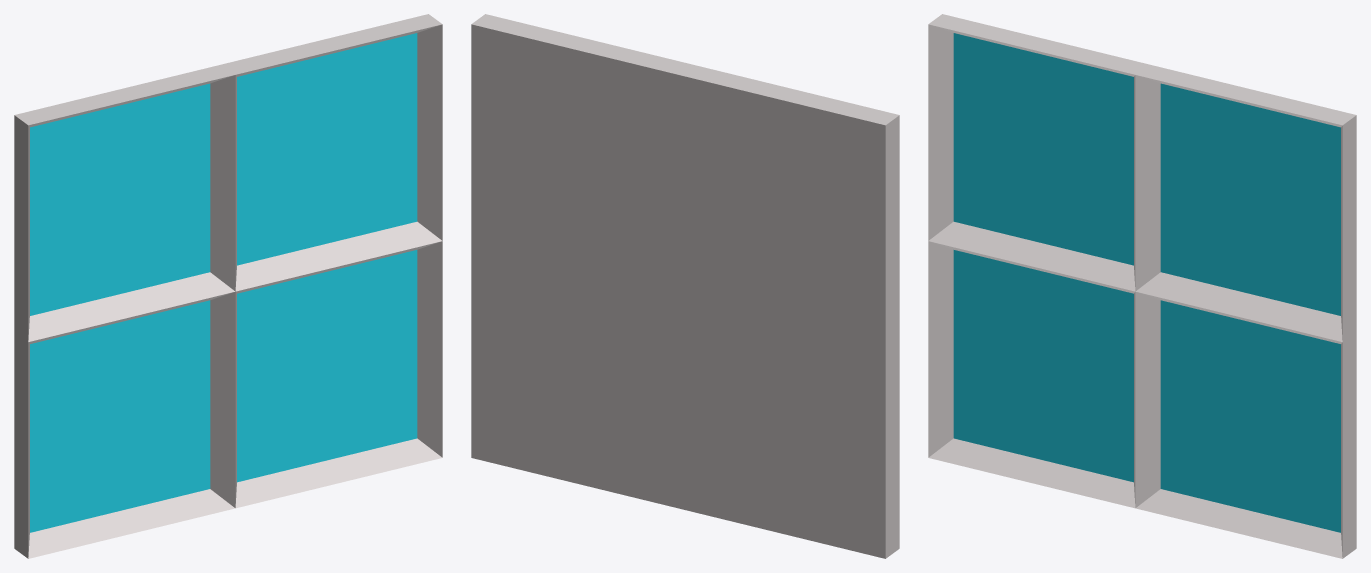
File: window.glb
3 renders of one model, left to right at view 1: azimuth 30°, elevation 25°; view 2: azimuth 150°, elevation 25°; view 3: azimuth 330°, elevation 25°, orthographic.
Visible parts, largest first — view 1: glass, windowframe; view 2: windowframe; view 3: glass, windowframe.
Part boxes in pixels (x1,y1,x2,y2): glass: (30,33,417,532); windowframe: (14,14,442,558); windowframe: (471,14,899,558); glass: (953,33,1340,532); windowframe: (928,14,1356,558).
Bounding box in the file's own units: 4 × 4 × 0.2357.
